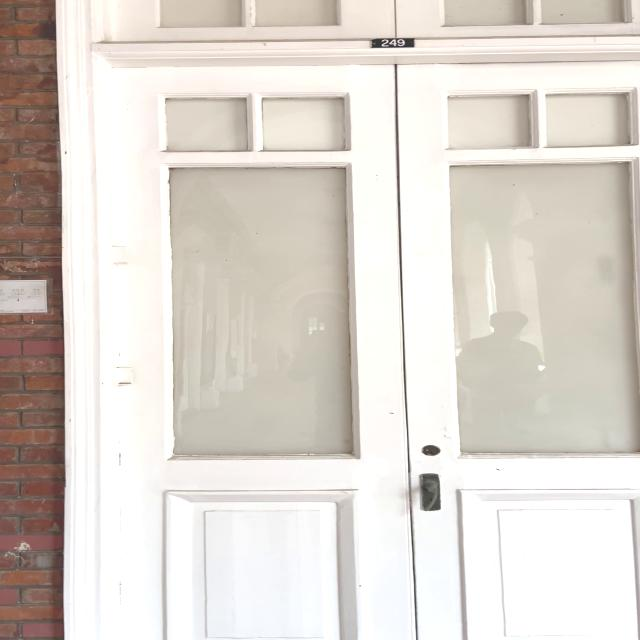room249: (363, 37, 423, 49)
